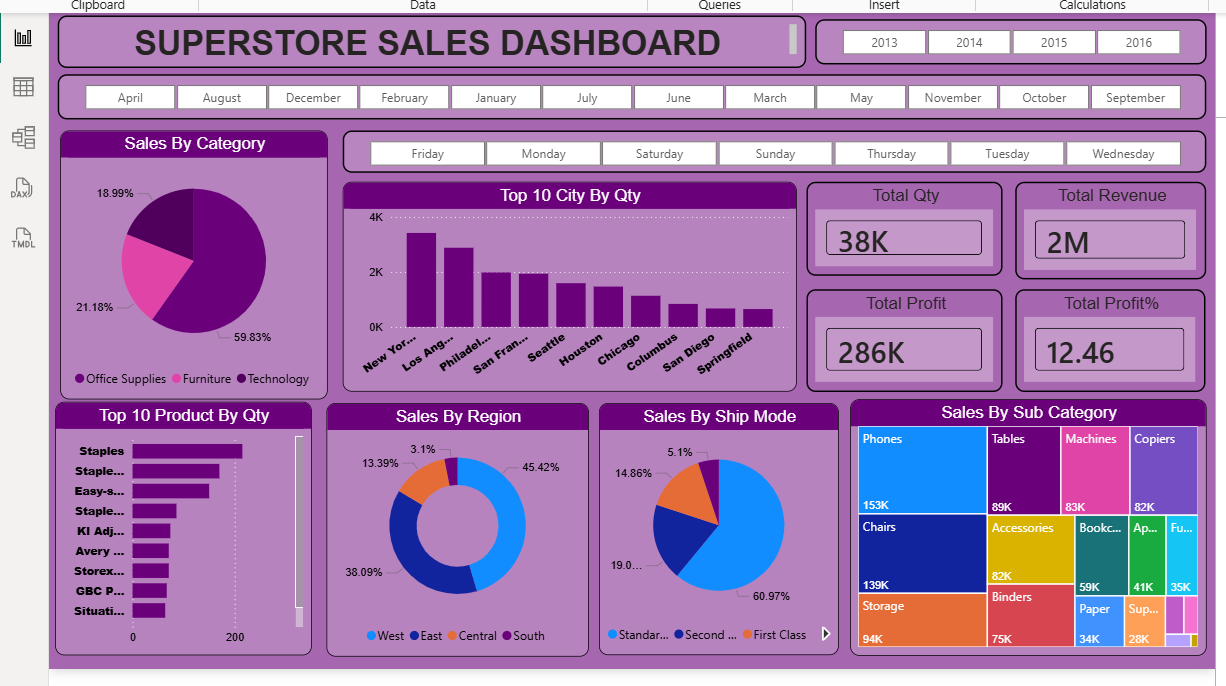

The page's visual inventory and layout, read from the dashboard file:
{"tool":"powerbi","page":{"name":"Page 1","canvas":[1280,720],"ordinal":0},"visuals":[{"type":"columnChart","title":"Top 10 City By Qty","fields":{"Category":["Superstore dataset.City"],"Y":["Sum(Superstore dataset.Quantity)"]},"box":[322.5,185.2,498.1,230.5],"z":0},{"type":"pieChart","title":"Sales By Category","fields":{"Category":["Superstore dataset.Category"],"Y":["Sum(Superstore dataset.Quantity)"]},"box":[12.3,129,293.7,295],"z":1000},{"type":"donutChart","title":"Sales By Region","fields":{"Category":["Superstore dataset.Region"],"Y":["Sum(Superstore dataset.Sales)"]},"box":[304.6,428.1,288.2,278.6],"z":2000},{"type":"barChart","title":"Top 10 Product By Qty","fields":{"Category":["Superstore dataset.Product Name"],"Y":["Sum(Superstore dataset.Quantity)"]},"box":[6.9,426.8,281.3,278.6],"z":3000},{"type":"pieChart","title":"Sales By Ship Mode","fields":{"Y":["Sum(Superstore dataset.Quantity)"],"Category":["Superstore dataset.Ship Mode"]},"box":[603.8,428.1,263.5,277.2],"z":4000},{"type":"treemap","title":"Sales By Sub Category","fields":{"Group":["Superstore dataset.Sub-Category"],"Values":["Sum(Superstore dataset.Sales)"]},"box":[879.6,424,391.1,281.3],"z":5000},{"type":"slicer","fields":{"Values":["Superstore dataset.Order Month Name"]},"box":[9.6,67.2,1261.1,49.4],"z":6000},{"type":"slicer","fields":{"Values":["Superstore dataset.Order Day Name"]},"box":[322.5,129,948.2,46.7],"z":7000},{"type":"cardVisual","title":"Total Qty","fields":{"Data":["Sum(Superstore dataset.Quantity)"]},"box":[831.6,185.2,215.4,102.9],"z":8000},{"type":"cardVisual","title":"Total Revenue","fields":{"Data":["Sum(Superstore dataset.Sales)"]},"box":[1060.7,185.2,209.9,107],"z":9000},{"type":"cardVisual","title":"Total Profit","fields":{"Data":["Sum(Superstore dataset.Profit)"]},"box":[831.6,303.3,215.4,112.5],"z":10000},{"type":"cardVisual","title":"Total Profit%","fields":{"Data":["Superstore dataset.Profit%"]},"box":[1060.7,303.3,208.6,112.5],"z":11000},{"type":"textbox","box":[9.6,2.7,822,57.6],"z":12000},{"type":"slicer","fields":{"Values":["Superstore dataset.Order Year"]},"box":[841.2,6.9,429.5,49.4],"z":13000}]}

Visuals, with their boxes in screenshot pixels (x1, y1, x2, y2):
"Top 10 City By Qty" columnChart: pyautogui.locateOnScreen(340, 178, 792, 387)
"Sales By Category" pieChart: pyautogui.locateOnScreen(59, 127, 325, 394)
"Sales By Region" donutChart: pyautogui.locateOnScreen(324, 398, 585, 650)
"Top 10 Product By Qty" barChart: pyautogui.locateOnScreen(54, 397, 309, 649)
"Sales By Ship Mode" pieChart: pyautogui.locateOnScreen(595, 398, 834, 649)
"Sales By Sub Category" treemap: pyautogui.locateOnScreen(846, 394, 1200, 649)
slicer - Superstore dataset.Order Month Name: pyautogui.locateOnScreen(57, 71, 1200, 115)
slicer - Superstore dataset.Order Day Name: pyautogui.locateOnScreen(340, 127, 1200, 169)
"Total Qty" cardVisual: pyautogui.locateOnScreen(802, 178, 997, 271)
"Total Revenue" cardVisual: pyautogui.locateOnScreen(1010, 178, 1200, 275)
"Total Profit" cardVisual: pyautogui.locateOnScreen(802, 285, 997, 387)
"Total Profit%" cardVisual: pyautogui.locateOnScreen(1010, 285, 1199, 387)
textbox: pyautogui.locateOnScreen(57, 12, 802, 64)
slicer - Superstore dataset.Order Year: pyautogui.locateOnScreen(811, 16, 1200, 61)
